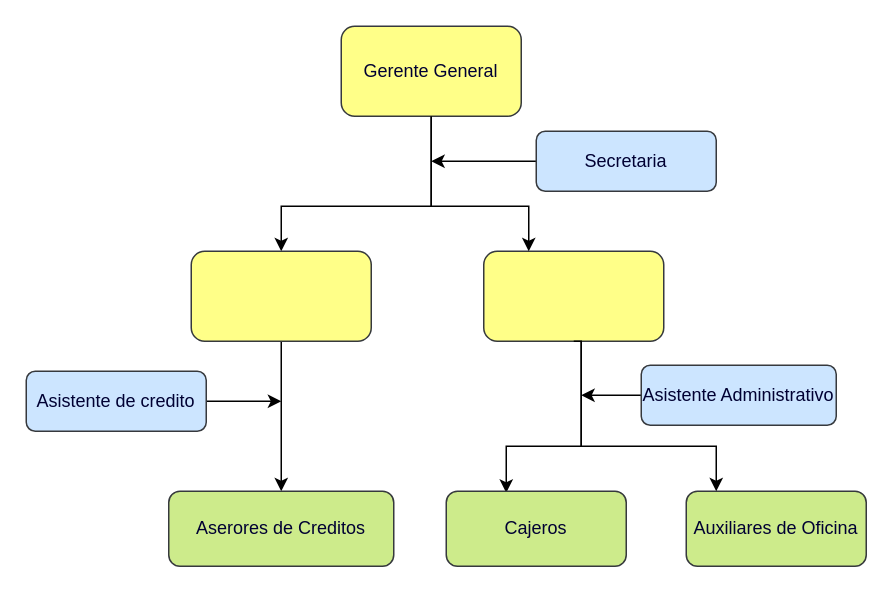
Image size: 893x593. Some labels were removed from this diagram. Each missing label, with the centre of its shape:
Gerente Comercial: point (280, 295)
Gerente de Operaciones y Finanzas: point (573, 295)
